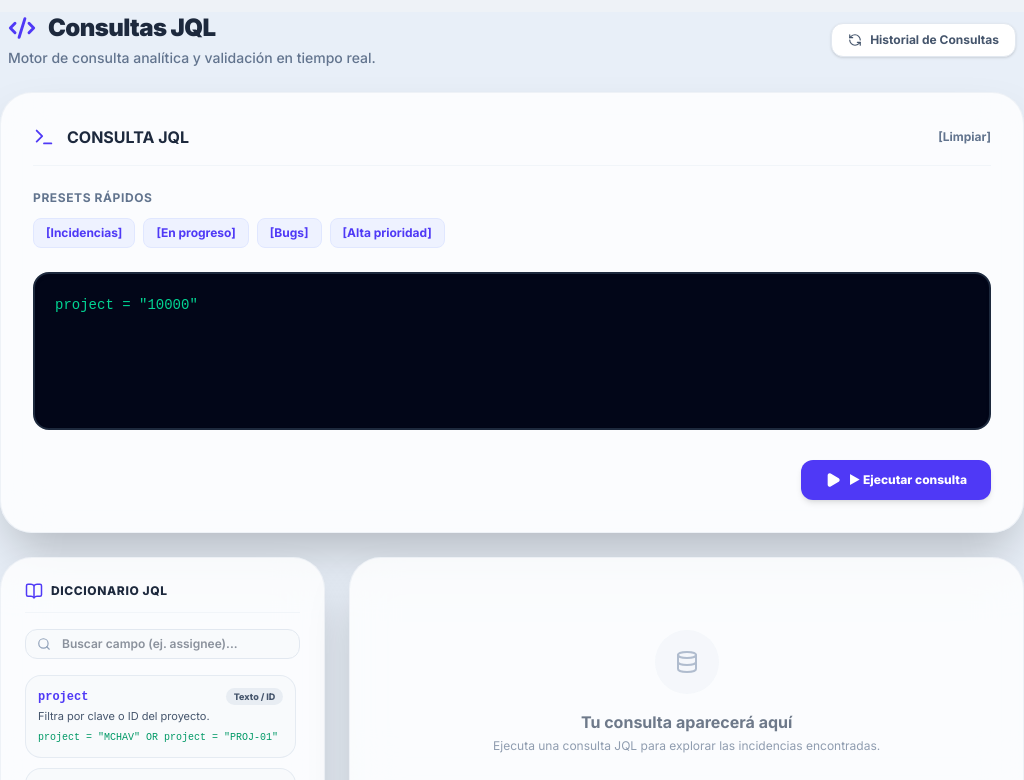
Test case: JqlConsultasView › executes failing jql query
The width and height of the screenshot is (1024, 780).
What coordinates should you click on to do the following:
click the button "▶ Ejecutar consulta"
I would click on:
 (896, 480)
Its box is [801, 460, 991, 500].
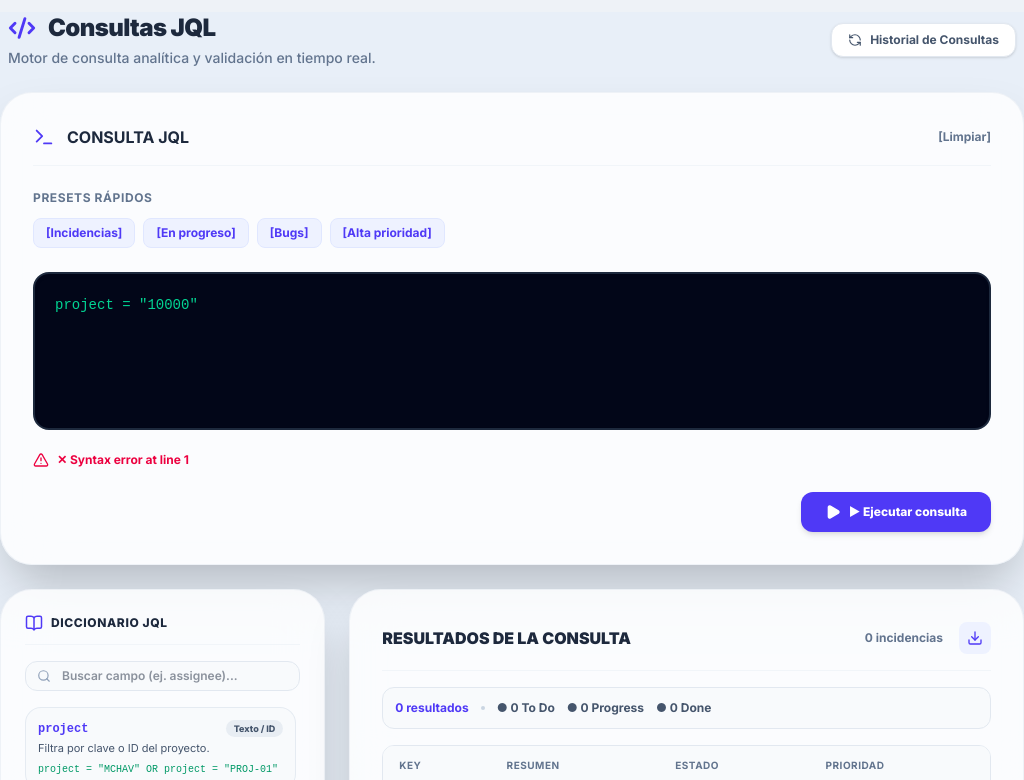
Now the text "✕ Syntax error at line 1" is shown, box [33, 452, 189, 468]
